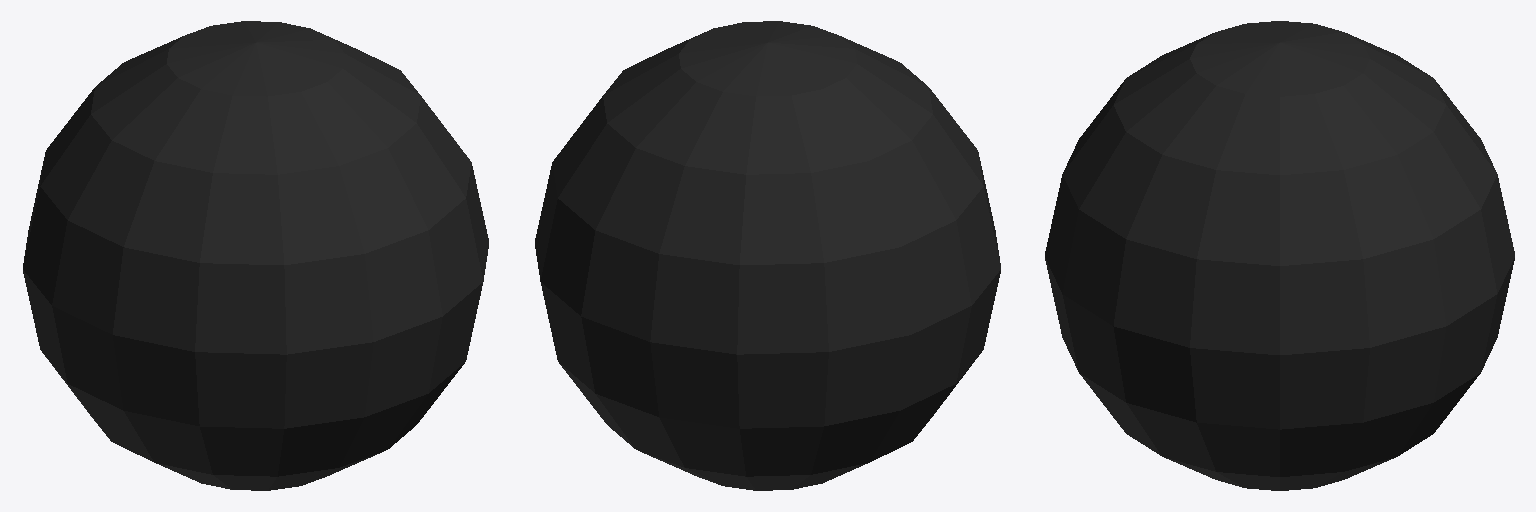
Rendered from iuvsphere.obj.
3 renders of one model, left to right at view 1: azimuth 30°, elevation 25°; view 2: azimuth 150°, elevation 25°; view 3: azimuth 270°, elevation 25°, orthographic.
Parts seen in each view (by area): view 1: IUVSphere; view 2: IUVSphere; view 3: IUVSphere.
Boxes of the visible parts, x1=… form: IUVSphere: x1=23, y1=21, x2=488, y2=490; IUVSphere: x1=535, y1=21, x2=1000, y2=490; IUVSphere: x1=1045, y1=21, x2=1514, y2=490.
Bounding box in the file's own units: 2 × 2 × 2.